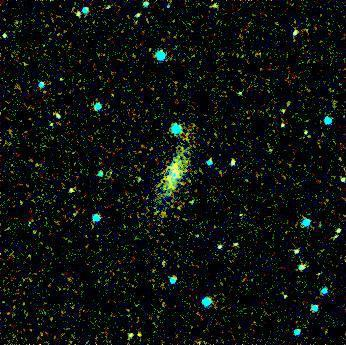star: (57, 173, 87, 203)
